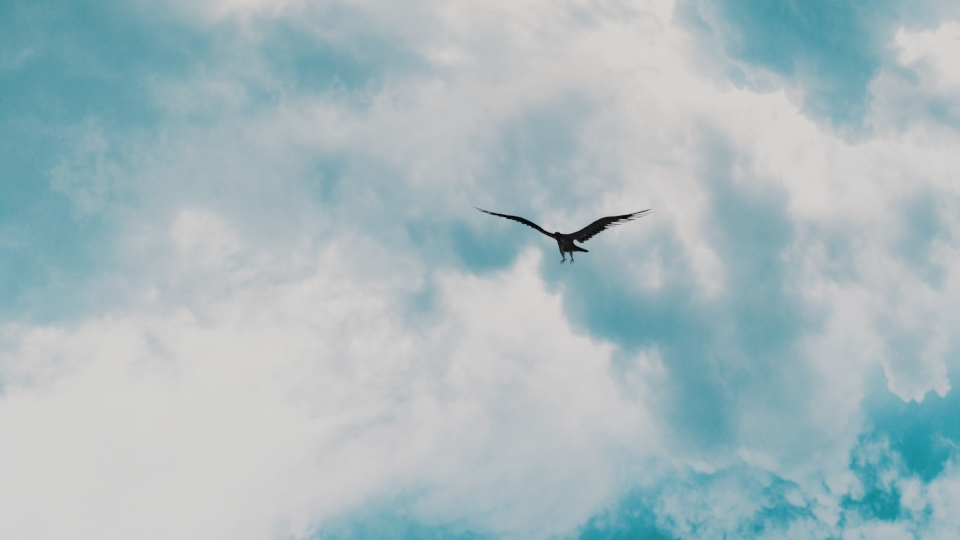bird: (469, 203, 649, 262)
